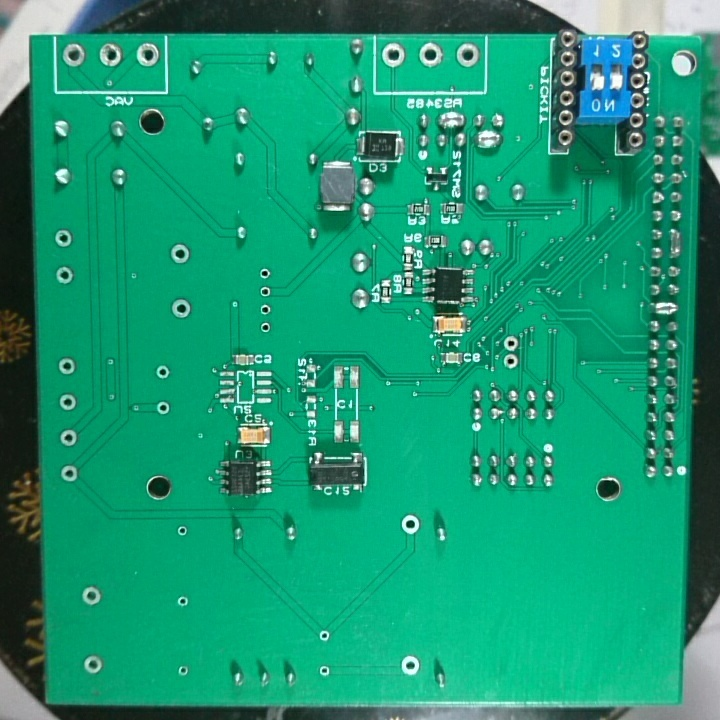F: (454, 40, 484, 72), (380, 39, 408, 71), (416, 40, 445, 69), (134, 40, 160, 71), (59, 42, 88, 69), (96, 40, 122, 69), (168, 242, 193, 268), (398, 653, 422, 680), (79, 584, 105, 608), (170, 295, 194, 321), (399, 512, 422, 538), (53, 263, 77, 287), (56, 355, 79, 379), (80, 654, 105, 676), (57, 426, 80, 449), (52, 227, 74, 250), (58, 462, 79, 483), (57, 392, 79, 412), (500, 352, 522, 372), (153, 396, 172, 418), (174, 591, 192, 614), (500, 333, 521, 352), (256, 300, 276, 319), (174, 520, 192, 541), (154, 362, 171, 384), (315, 626, 332, 647), (316, 661, 334, 680), (257, 317, 274, 337), (257, 282, 274, 301), (256, 265, 274, 282), (175, 663, 191, 679)
P: (472, 129, 503, 152), (666, 224, 684, 263), (436, 109, 469, 129), (648, 298, 679, 318)
